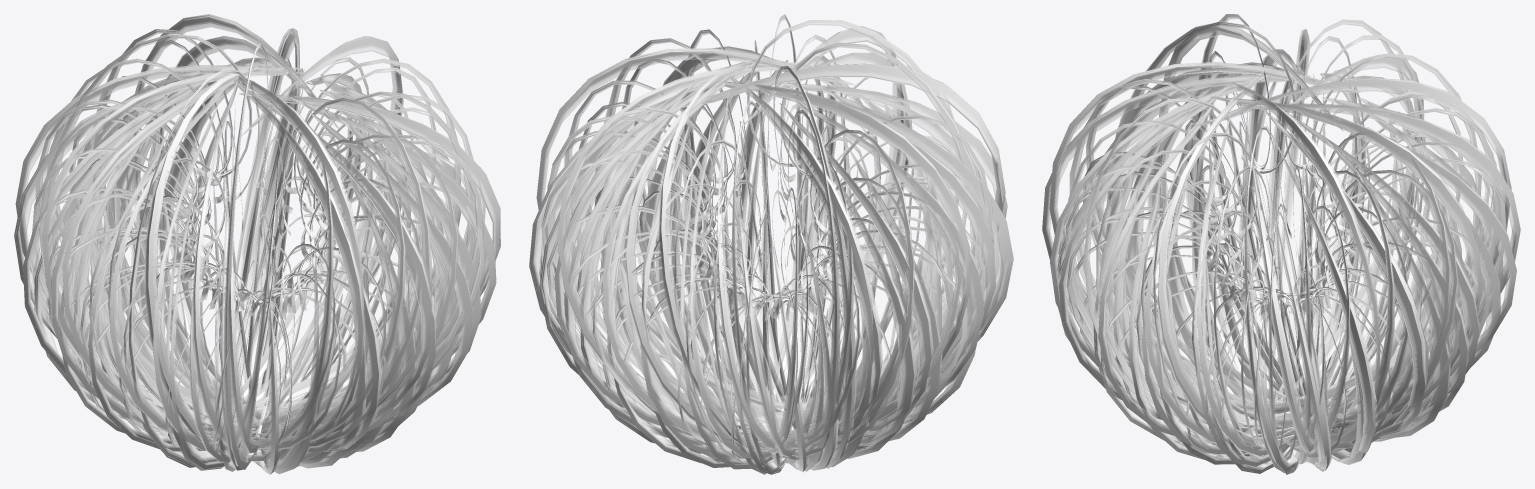
The model's file is subatomic_particle_fx.glb.
The picture shows the model from 3 angles, left to right: view 1: azimuth 30°, elevation 25°; view 2: azimuth 150°, elevation 25°; view 3: azimuth 270°, elevation 25°; orthographic projection.
Parts seen in each view (by area): view 1: Material_001-material; view 2: Material_001-material; view 3: Material_001-material.
Part boxes in pixels (box(x1,y1,x2,y2)): Material_001-material: box(14, 14, 500, 474); Material_001-material: box(529, 14, 1013, 474); Material_001-material: box(1042, 14, 1520, 474).
Size of the model in its own units: 59.97 by 58.56 by 60.69.
1 material, 1 textured.
